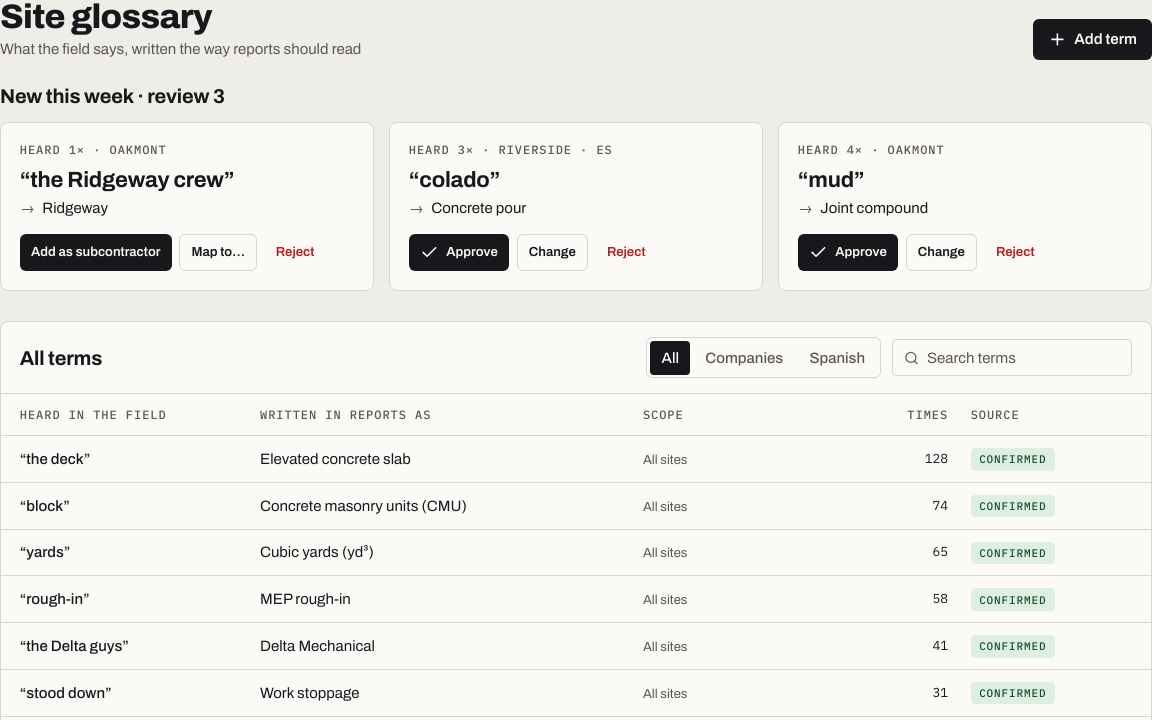
Test case: GlossaryPage (demo data) › adds a company from the review queue and a term through the dialog
Click the button "Add as subcontractor".
click(96, 253)  # box left=20, top=234, right=172, bottom=271
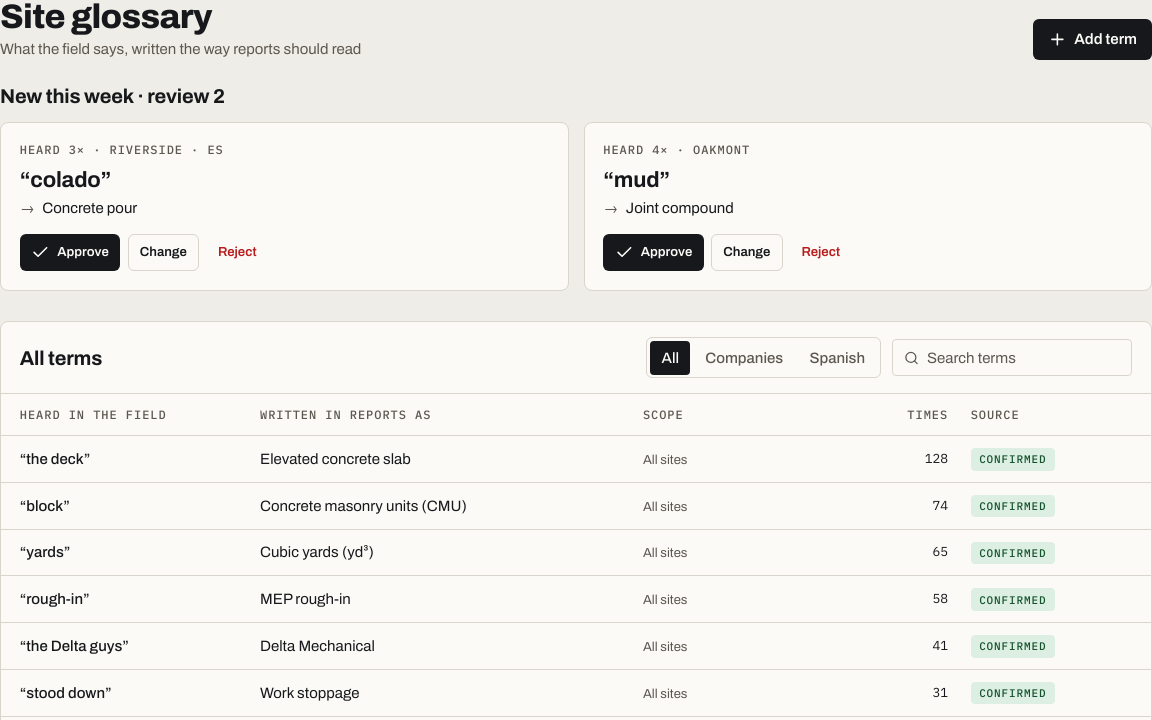
Expected: the text "“the Ridgeway crew”" is not shown
Click the button "Add term".
click(1092, 39)  # box left=1033, top=18, right=1151, bottom=60
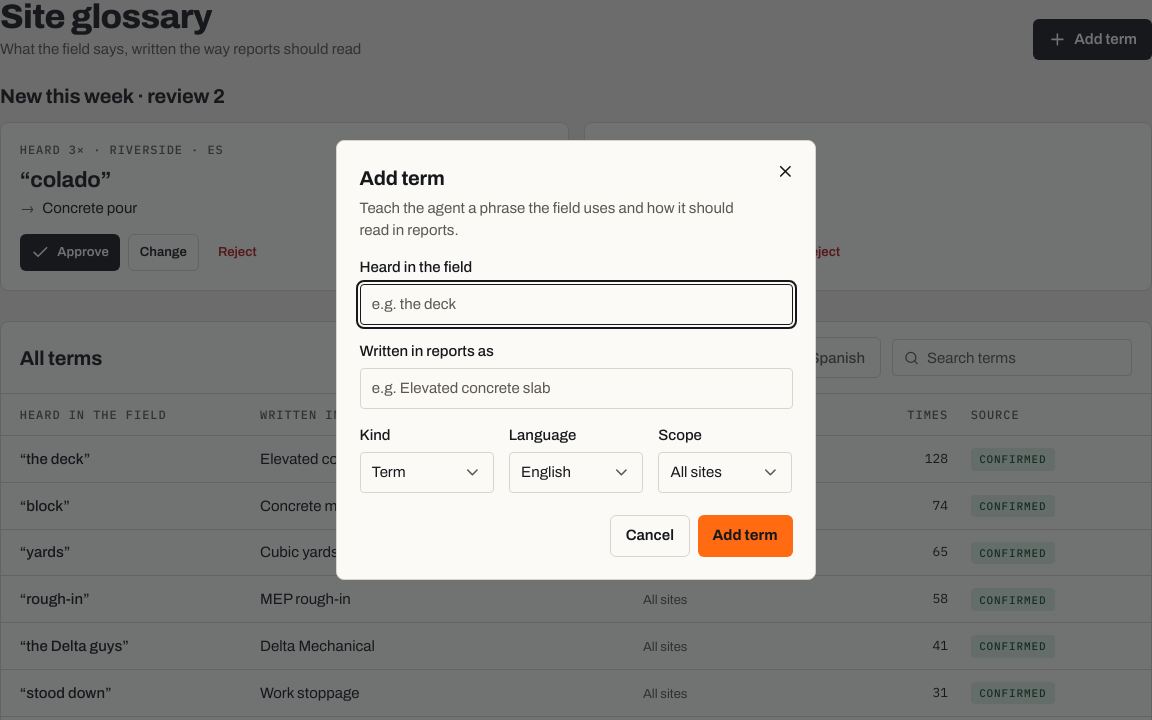
Type "the slab" into the field labelled "Heard in the field".
click(576, 304); type("the slab")  # box left=360, top=284, right=792, bottom=325
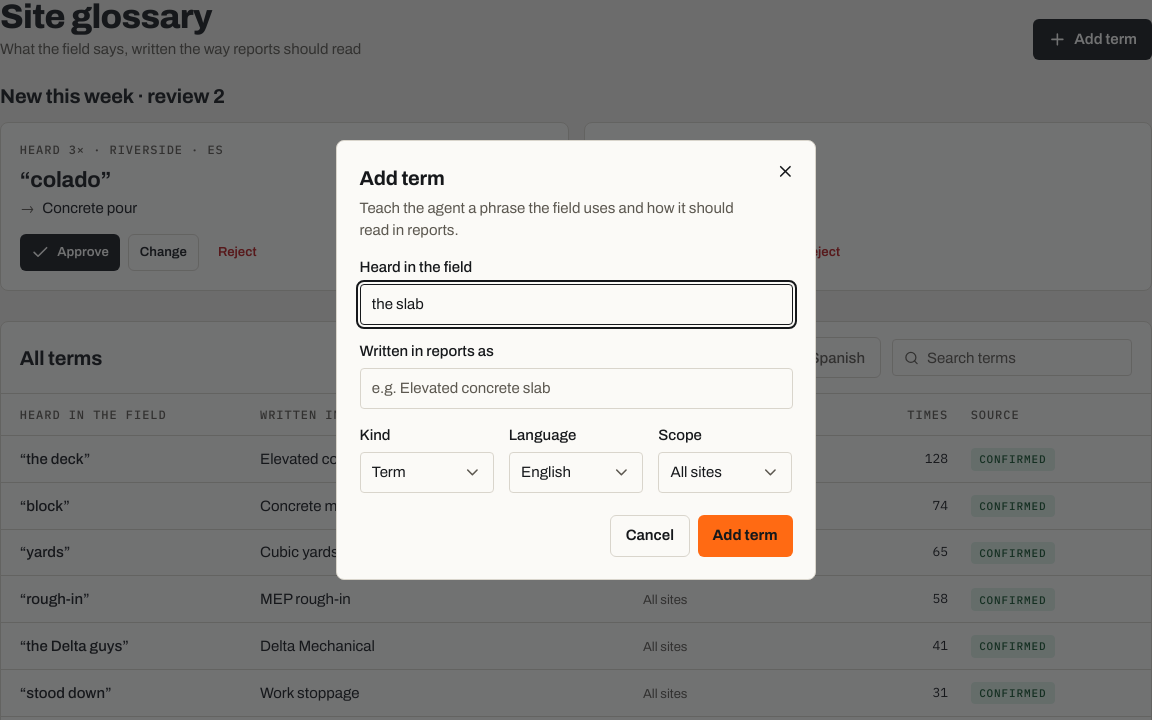
Type "Slab on grade" into the field labelled "Written in reports as".
click(576, 388); type("Slab on grade")  # box left=360, top=368, right=792, bottom=409
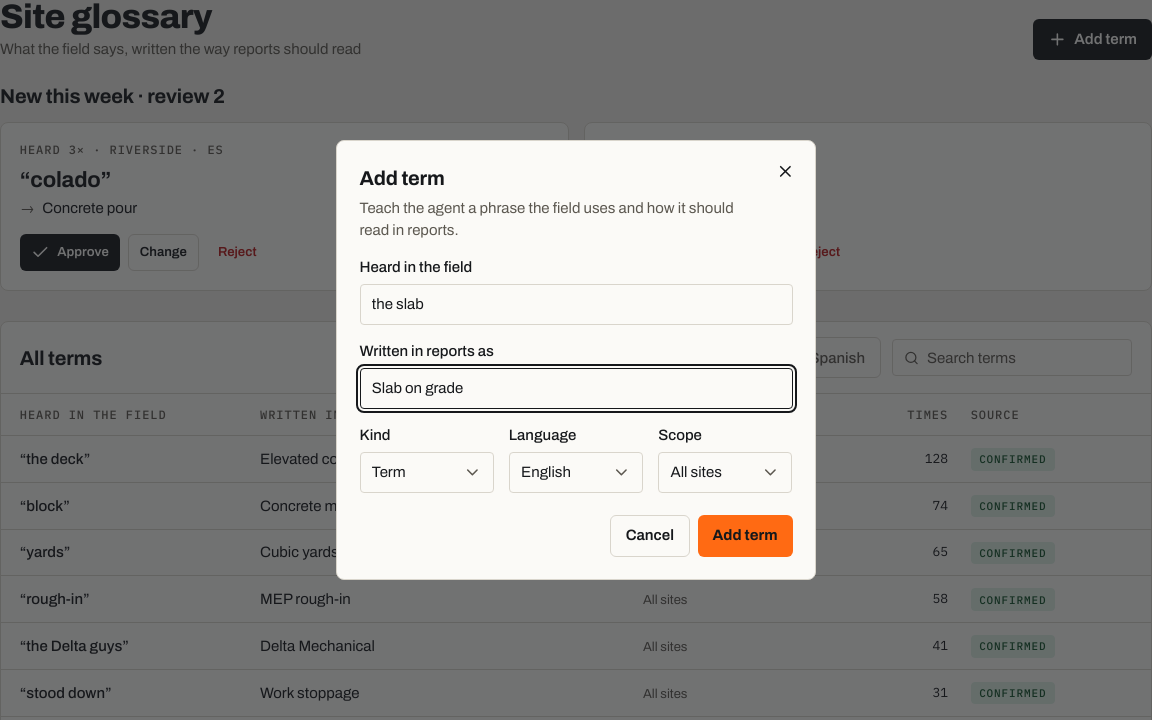
Click the button "Add term".
click(745, 536)  # box left=698, top=515, right=792, bottom=557
(page scrolled)
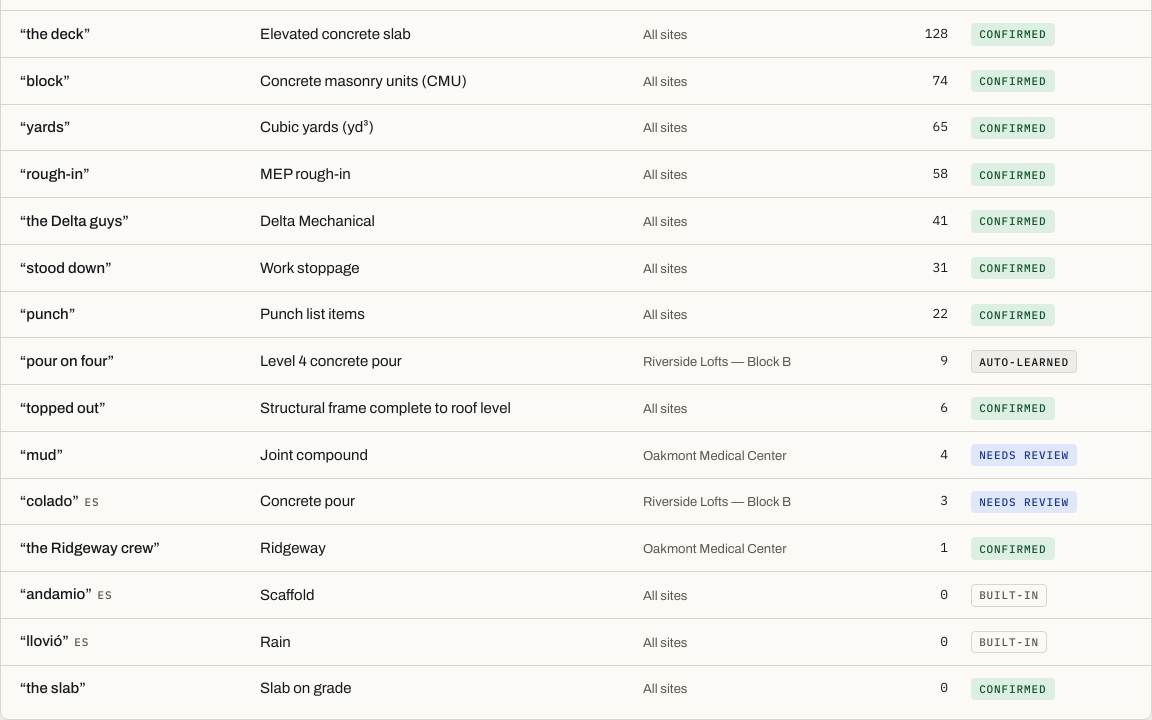
Expected: the dialog is gone
Expected: the cell "Slab on grade" is shown, left=249, top=665, right=632, bottom=711
Expected: the text "“the slab”" is shown, left=20, top=680, right=86, bottom=696
